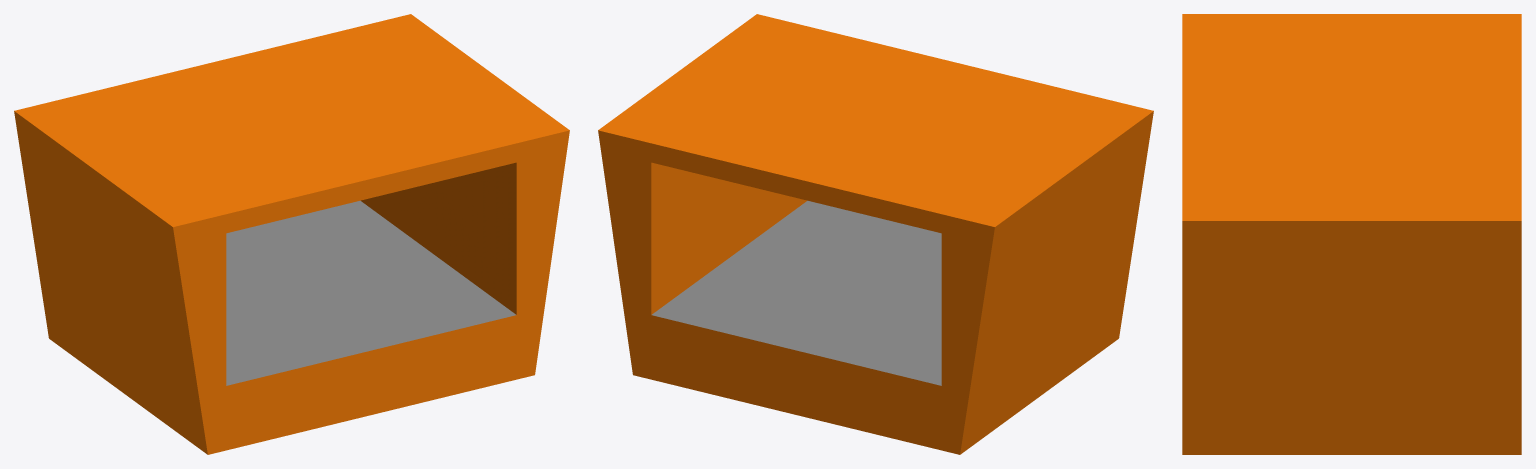
The model's file is CageA.fbx.
The picture shows the model from 3 angles, left to right: view 1: azimuth 30°, elevation 25°; view 2: azimuth 150°, elevation 25°; view 3: azimuth 270°, elevation 25°; orthographic projection. The views are drawn at different scales.
Parts seen in each view (by area): view 1: CageA; view 2: CageA; view 3: CageA.
Boxes of the visible parts, left/top/right/bottom form: CageA: left=14, top=14, right=569, bottom=454; CageA: left=598, top=14, right=1153, bottom=454; CageA: left=1182, top=14, right=1521, bottom=454.
Size of the model in its own units: 861 by 490 by 597.
1 material, 1 textured.
